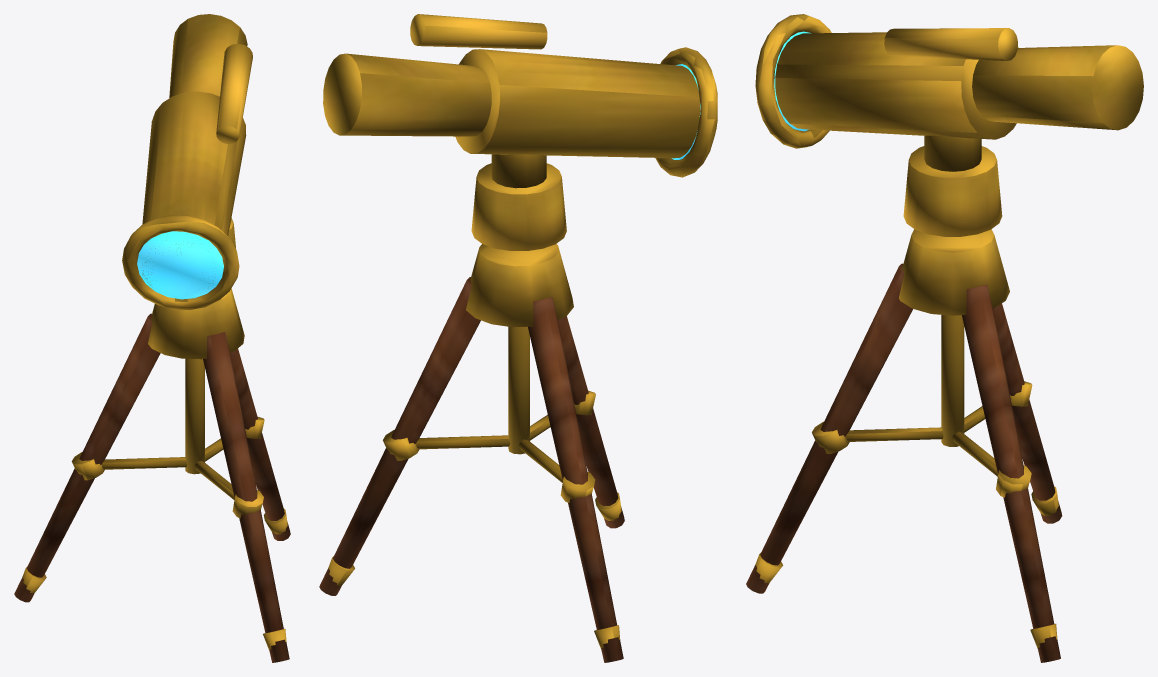
Rendered from g_prop_telescope.glb.
3 views of the same model, side by side, from view 1: azimuth 30°, elevation 25°; view 2: azimuth 150°, elevation 25°; view 3: azimuth 270°, elevation 25° (orthographic). The views are drawn at different scales.
Parts seen in each view (by area): view 1: TelMainTube1, TelLegWood_2, TelLegWood_1, TelLens, TelMainTube2, TelDewRing, TelHubCrown, TelLegWood_0, TelFinder, TelCenterRod, TelSpreader_1, TelSpreader_2 (+2 smaller); view 2: TelMainTube1, TelMainTube2, TelLegWood_1, TelLegWood_0, TelHubCrown, TelHub, TelFinder, TelLegWood_2, TelDewRing, TelCenterRod, TelYoke, TelSpreader_0 (+3 smaller); view 3: TelMainTube1, TelMainTube2, TelLegWood_0, TelLegWood_2, TelHubCrown, TelHub, TelFinder, TelDewRing, TelLegWood_1, TelCenterRod, TelYoke, TelSpreader_2 (+3 smaller).
Boxes of the visible parts, bbox=[...] form: TelMainTube1: bbox=[142, 91, 246, 285]; TelLegWood_2: bbox=[203, 332, 289, 662]; TelLegWood_1: bbox=[14, 313, 160, 602]; TelLens: bbox=[137, 231, 223, 299]; TelMainTube2: bbox=[169, 14, 247, 97]; TelDewRing: bbox=[122, 215, 239, 309]; TelHubCrown: bbox=[148, 288, 244, 359]; TelLegWood_0: bbox=[230, 349, 290, 540]; TelFinder: bbox=[216, 43, 252, 143]; TelCenterRod: bbox=[185, 358, 204, 474]; TelSpreader_1: bbox=[102, 457, 187, 469]; TelSpreader_2: bbox=[194, 461, 234, 499]; TelMainTube1: bbox=[455, 49, 700, 158]; TelMainTube2: bbox=[323, 53, 491, 136]; TelLegWood_1: bbox=[528, 297, 623, 662]; TelLegWood_0: bbox=[319, 277, 480, 595]; TelHubCrown: bbox=[466, 244, 573, 327]; TelHub: bbox=[471, 163, 566, 250]; TelFinder: bbox=[410, 14, 547, 49]; TelLegWood_2: bbox=[558, 316, 624, 528]; TelDewRing: bbox=[655, 47, 717, 177]; TelCenterRod: bbox=[508, 326, 529, 454]; TelYoke: bbox=[491, 154, 546, 188]; TelSpreader_0: bbox=[416, 435, 510, 449]; TelMainTube1: bbox=[775, 32, 1018, 139]; TelMainTube2: bbox=[972, 45, 1143, 130]; TelLegWood_0: bbox=[962, 284, 1060, 662]; TelLegWood_2: bbox=[746, 263, 912, 593]; TelHubCrown: bbox=[899, 229, 1009, 315]; TelHub: bbox=[903, 146, 1002, 236]; TelFinder: bbox=[884, 28, 1017, 60]; TelDewRing: bbox=[755, 14, 831, 148]; TelLegWood_1: bbox=[993, 303, 1062, 523]; TelCenterRod: bbox=[941, 315, 964, 446]; TelYoke: bbox=[924, 135, 981, 171]; TelSpreader_2: bbox=[846, 427, 943, 441].
Bounding box in the file's own units: 0.6954 × 1.27 × 0.7659.
Materials: 3 (3 with a texture image).
